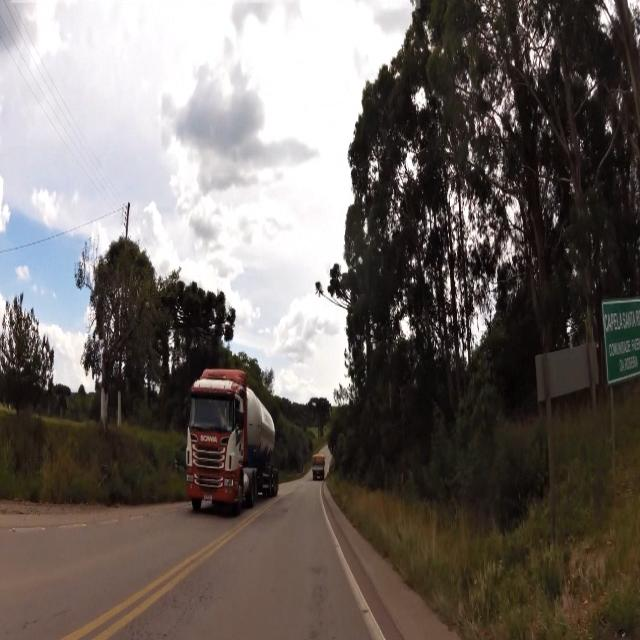I-4: (602, 303, 640, 382)
